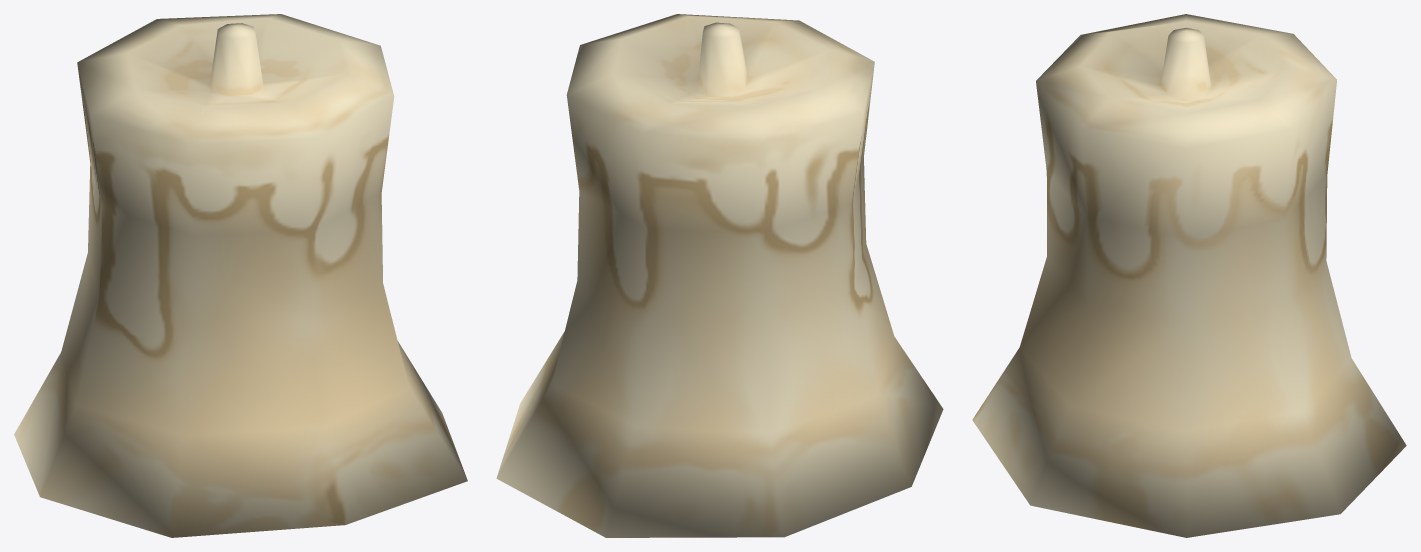
File: candleMiner.FBX
3 views of the same model, side by side, from view 1: azimuth 30°, elevation 25°; view 2: azimuth 150°, elevation 25°; view 3: azimuth 270°, elevation 25° (orthographic). The views are drawn at different scales.
Parts seen in each view (by area): view 1: E01_BigCandle_Prop017; view 2: E01_BigCandle_Prop017; view 3: E01_BigCandle_Prop017.
Part boxes in pixels (bbox=[...]): E01_BigCandle_Prop017: bbox=[14, 14, 467, 537]; E01_BigCandle_Prop017: bbox=[496, 14, 943, 537]; E01_BigCandle_Prop017: bbox=[972, 14, 1406, 537].
Size of the model in its own units: 31.19 by 32.64 by 31.
